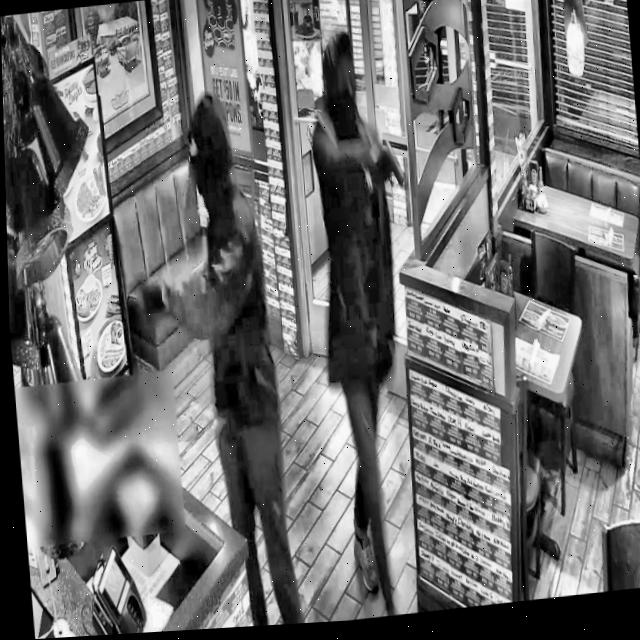pistol: (365, 127, 409, 198)
robbery: (127, 8, 423, 626)
